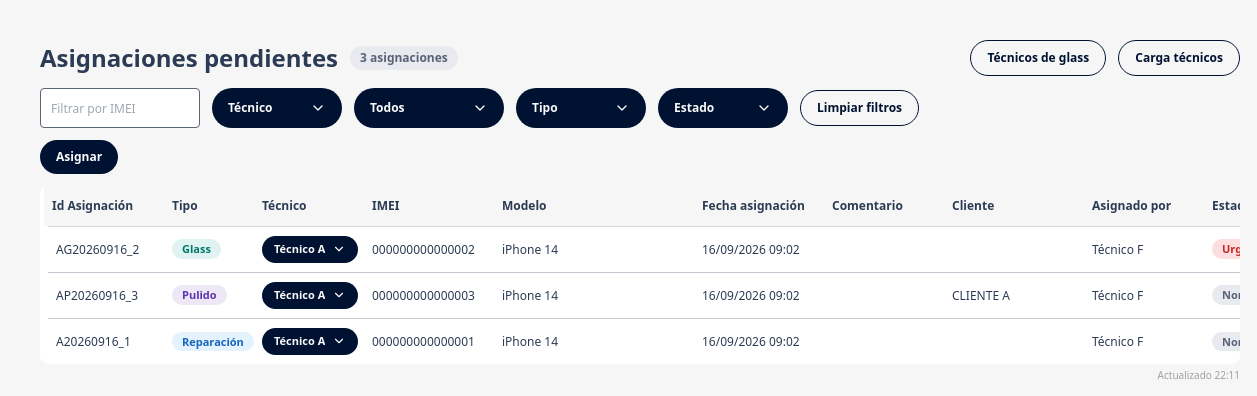
Test case: AsignacionesPage · el sondeo se congela mientras hay algo abierto (D4) › el menú contextual congela el sondeo, y cerrarlo lo reanuda
The width and height of the screenshot is (1257, 396).
Right-click the text "A20260916_1".
right_click(104, 341)  # box [44,318,164,364]
Wait 120000 ms
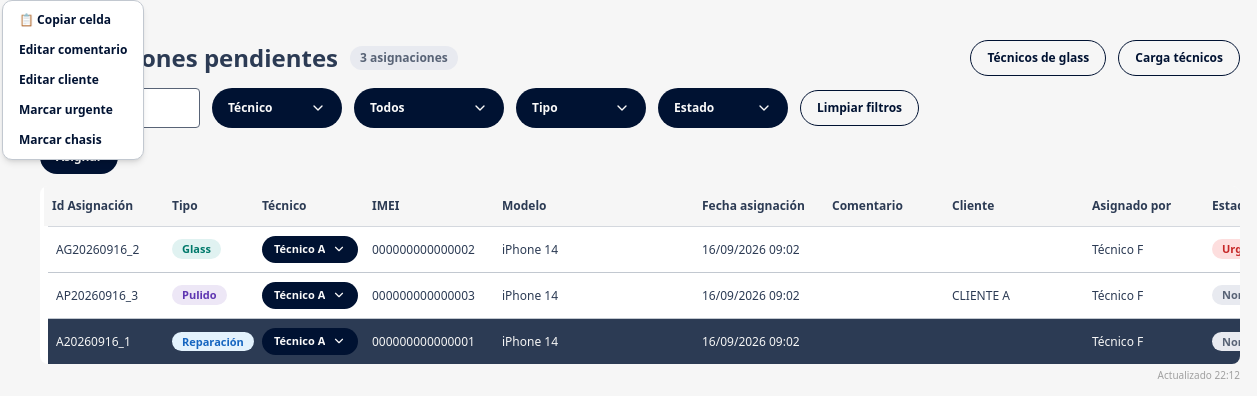
Press Escape in the menu, box [2,0,144,160]
Wait 60000 ms
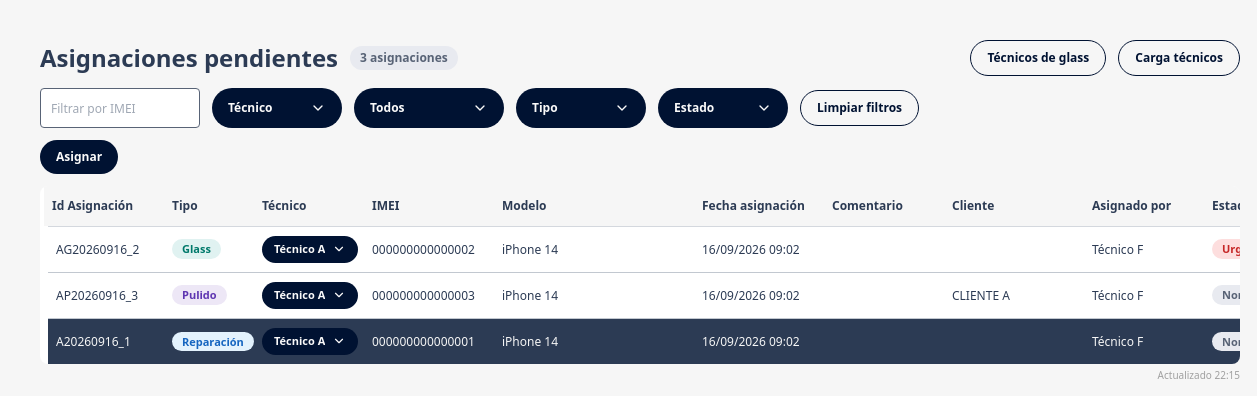
Expected: the menu item is gone
